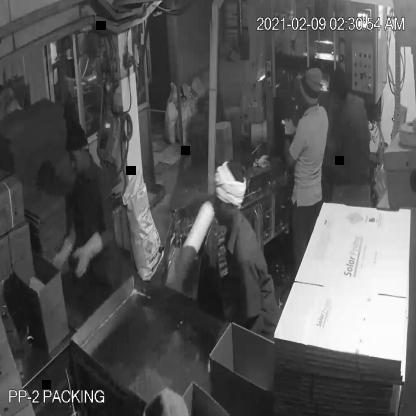glove: (70, 235, 107, 283), (42, 233, 80, 271)
no_glove: (280, 119, 302, 169)
